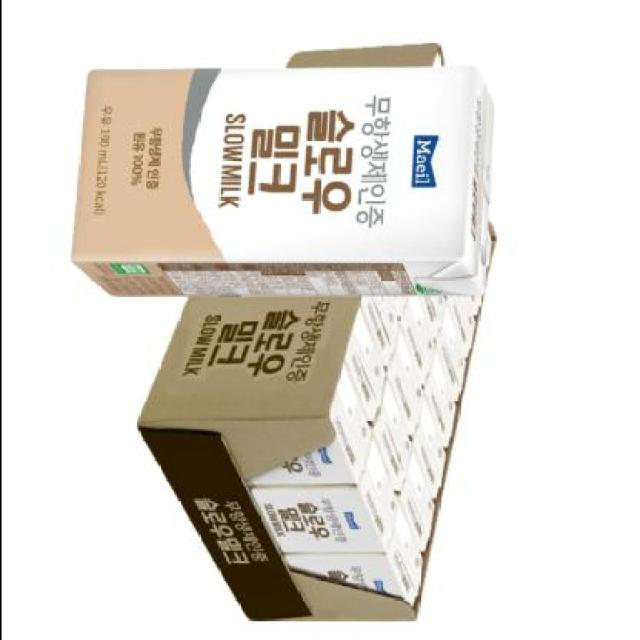tetra: (55, 51, 513, 322)
